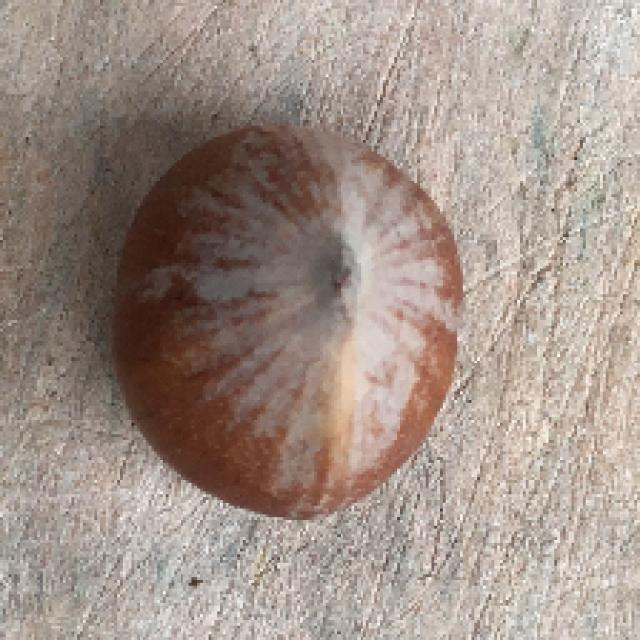qualityHazelnut: (92, 110, 470, 528)
